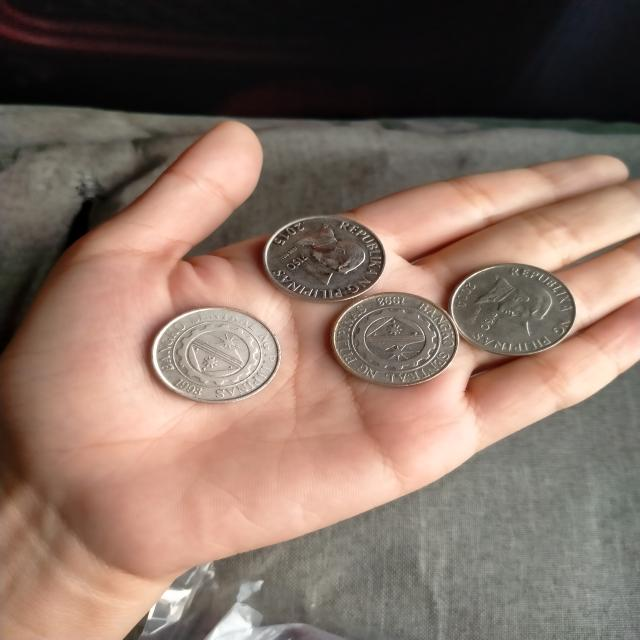1_Old_Back: (344, 302, 445, 376), (167, 320, 263, 388)
